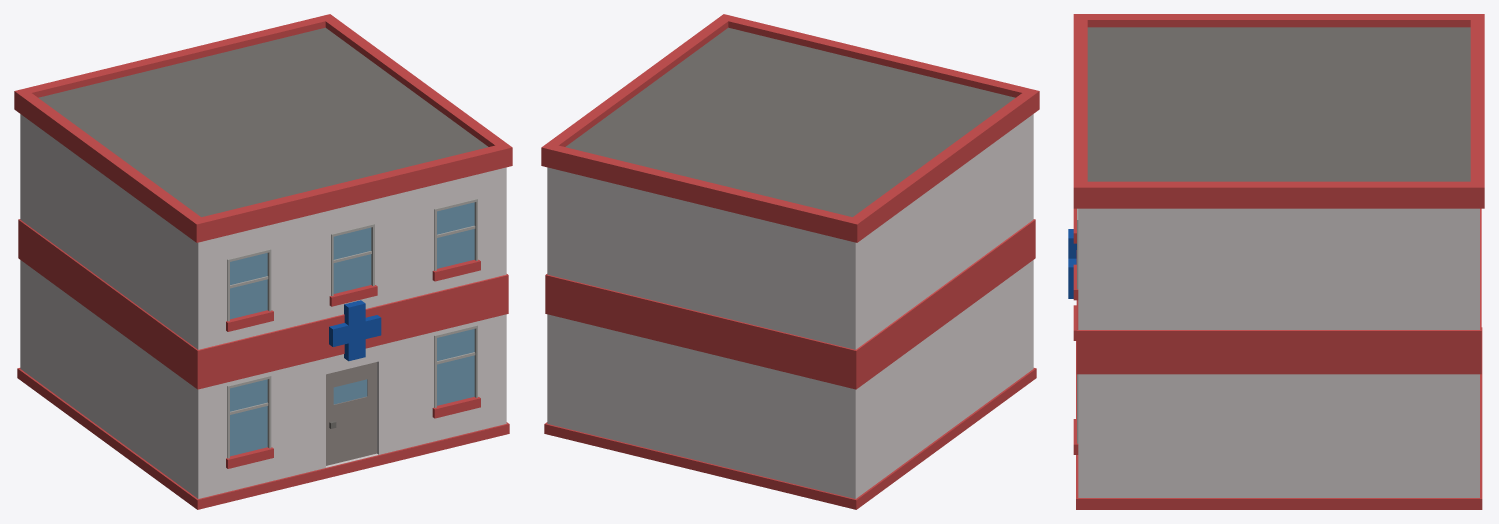
Rendered from Hospital.fbx.
The picture shows the model from 3 angles, left to right: view 1: azimuth 30°, elevation 25°; view 2: azimuth 150°, elevation 25°; view 3: azimuth 270°, elevation 25°; orthographic projection. The views are drawn at different scales.
Parts seen in each view (by area): view 1: Hospital; view 2: Hospital; view 3: Hospital.
Boxes of the visible parts, <box> form: Hospital: <box>14,14,512,509</box>; Hospital: <box>541,14,1039,509</box>; Hospital: <box>1068,14,1484,509</box>.
Size of the model in its own units: 14.04 by 12.18 by 14.23.
